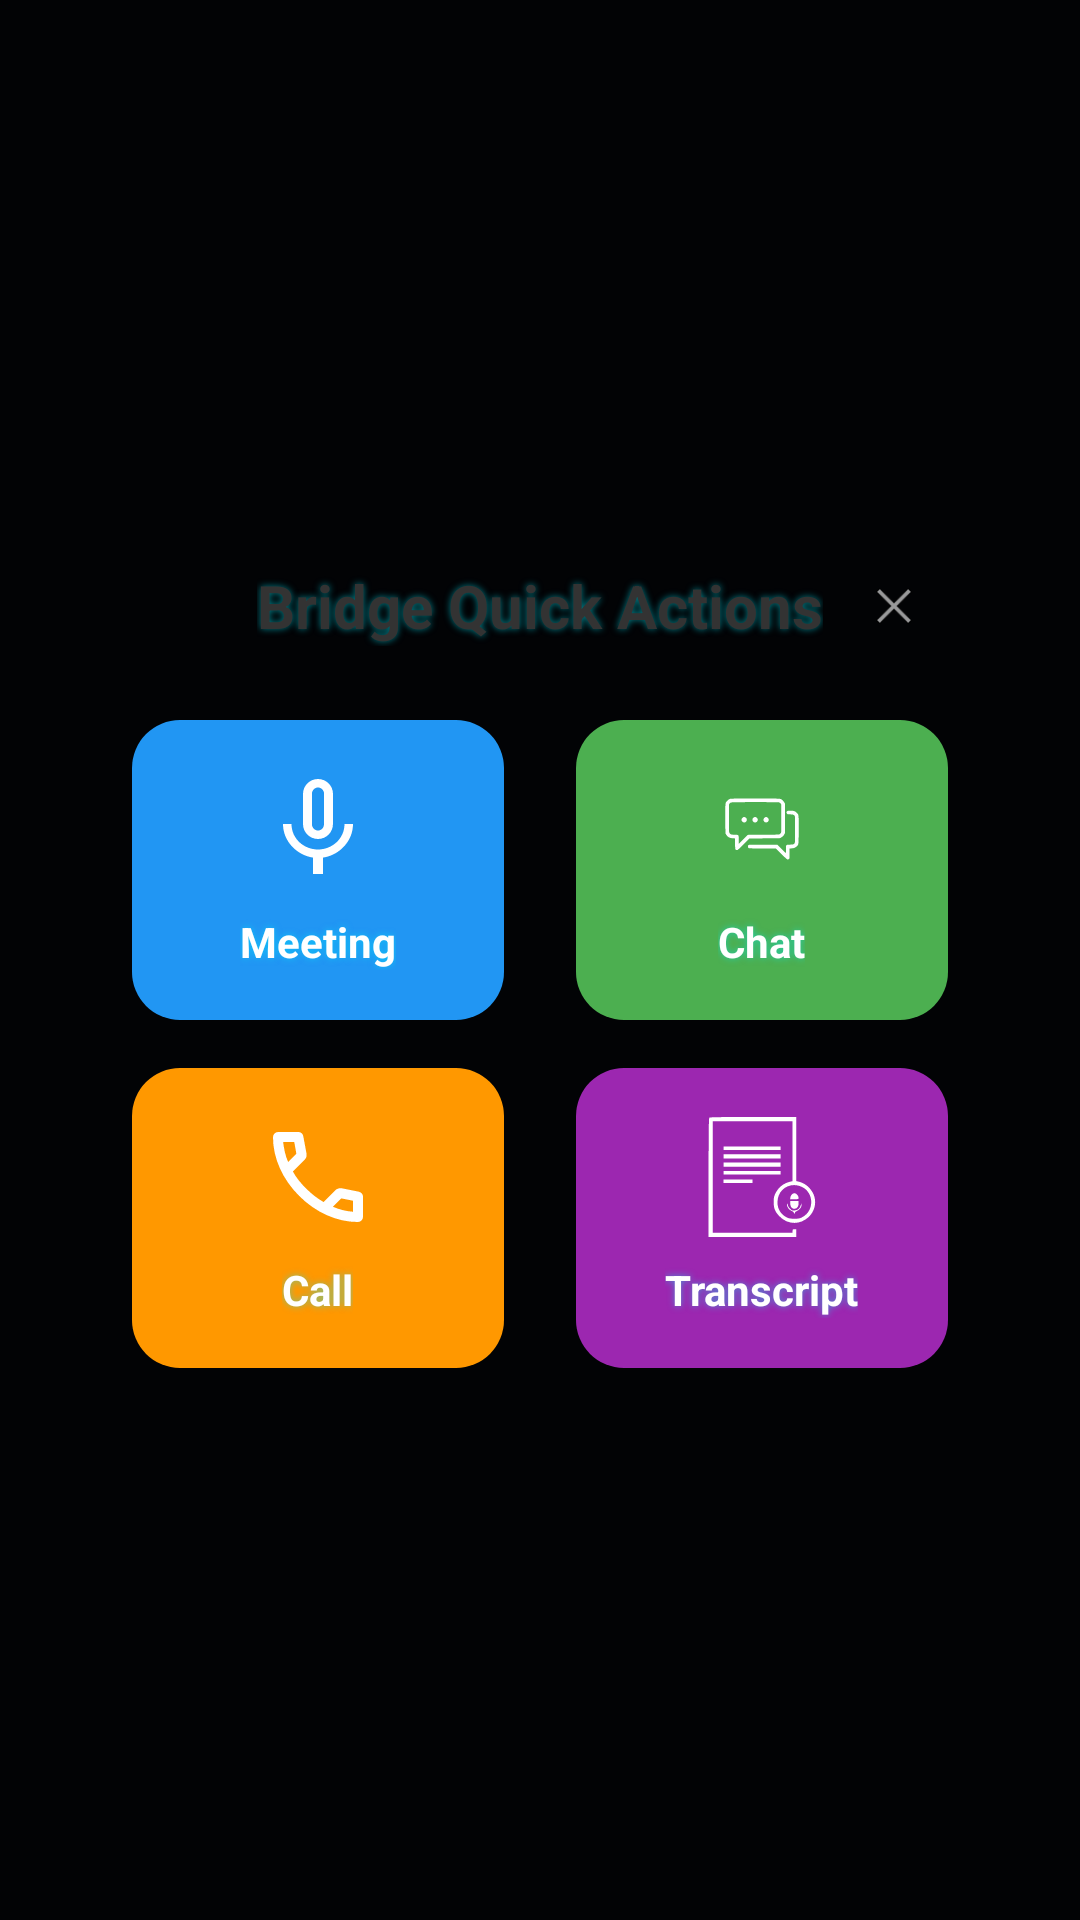

Point at icon controls on the screen. Image size 1080px×1920px, points as [x,y].
Close: [894,606]
mic: [318,826]
